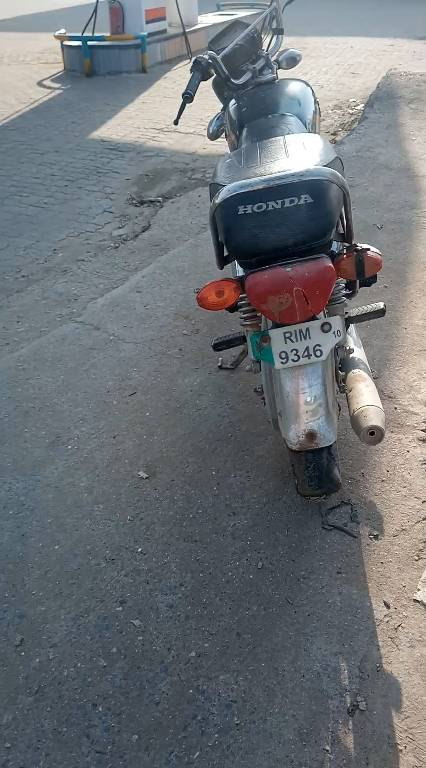number_plate: (252, 320, 346, 374)
